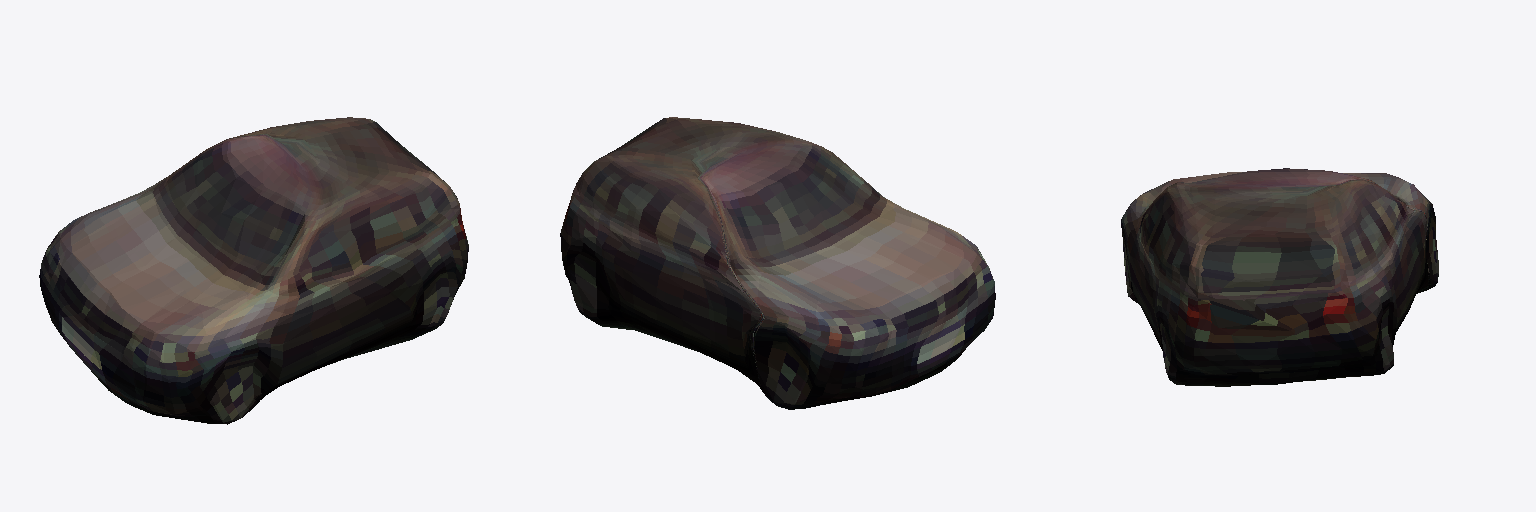
The picture shows the model from 3 angles: view 1: azimuth 30°, elevation 25°; view 2: azimuth 150°, elevation 25°; view 3: azimuth 270°, elevation 25°; orthographic projection.
Size of the model in its own units: 1 by 0.4971 by 0.7769.
1 materials, 1 textured.